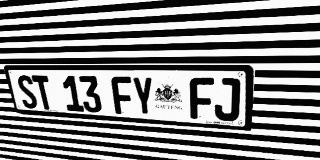1: (60, 76, 84, 112)
3: (78, 76, 102, 113)
F: (190, 77, 214, 120), (111, 76, 135, 115)
J: (214, 78, 241, 122)
S: (15, 75, 39, 109)
T: (31, 75, 55, 110)
Y: (131, 77, 155, 116)
